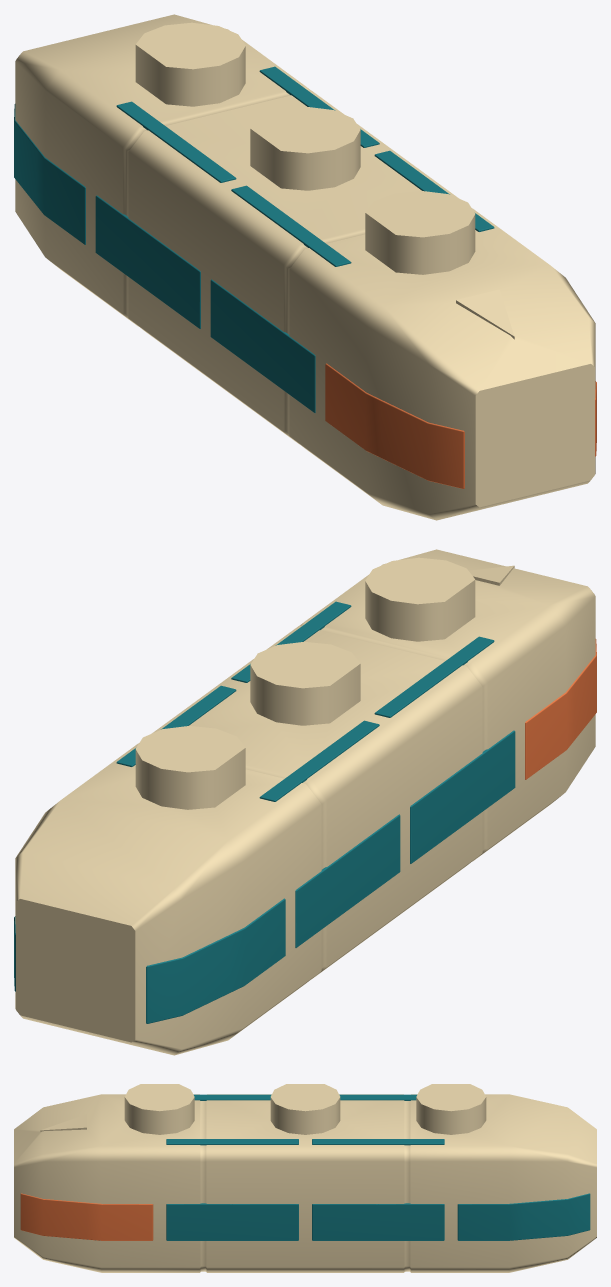
File: pontoon-lod-1.glb
The picture shows the model from 3 angles, top to bottom: view 1: azimuth 30°, elevation 25°; view 2: azimuth 150°, elevation 25°; view 3: azimuth 270°, elevation 25°; orthographic projection. The views are drawn at different scales.
Visible parts, largest first — view 1: pontoon_lod_1; view 2: pontoon_lod_1; view 3: pontoon_lod_1.
Boxes of the visible parts, box(x1,y1,x2,y2) form: pontoon_lod_1: box(14, 14, 596, 520); pontoon_lod_1: box(14, 549, 596, 1055); pontoon_lod_1: box(14, 1084, 596, 1272).
Size of the model in its own units: 1.01 by 1.14 by 4.
